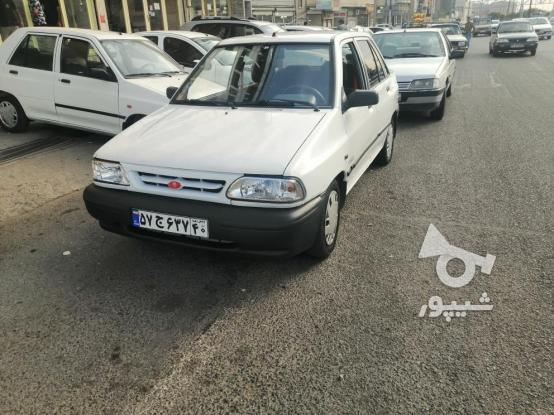car: (132, 206, 212, 238), (510, 41, 526, 47)
